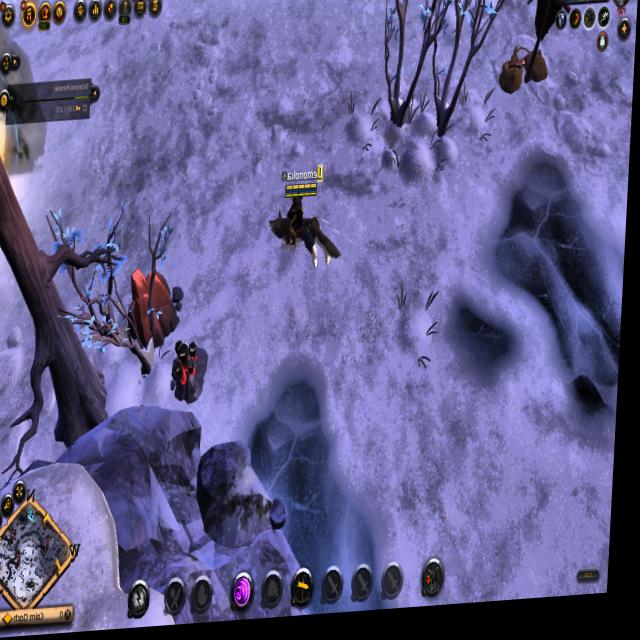ore tier 5: (176, 336, 216, 407)
rock tier 5: (128, 271, 186, 358)
